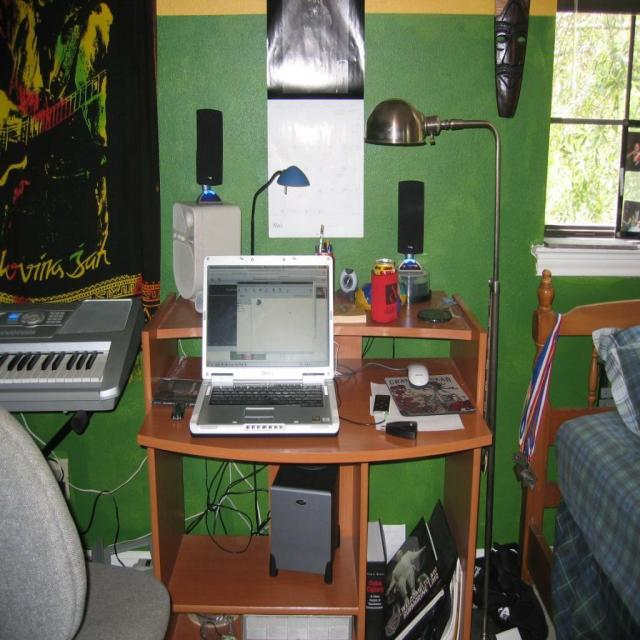chair: (0, 409, 173, 640)
desk: (122, 246, 532, 640)
laptop: (190, 254, 342, 439)
mouse: (408, 362, 430, 388)
